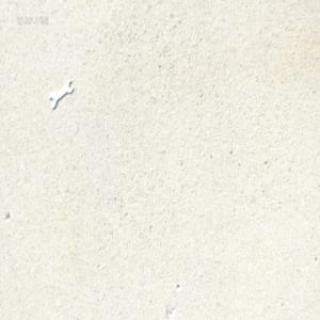Wrenchtrack_idkeyframe: (48, 76, 73, 110)
